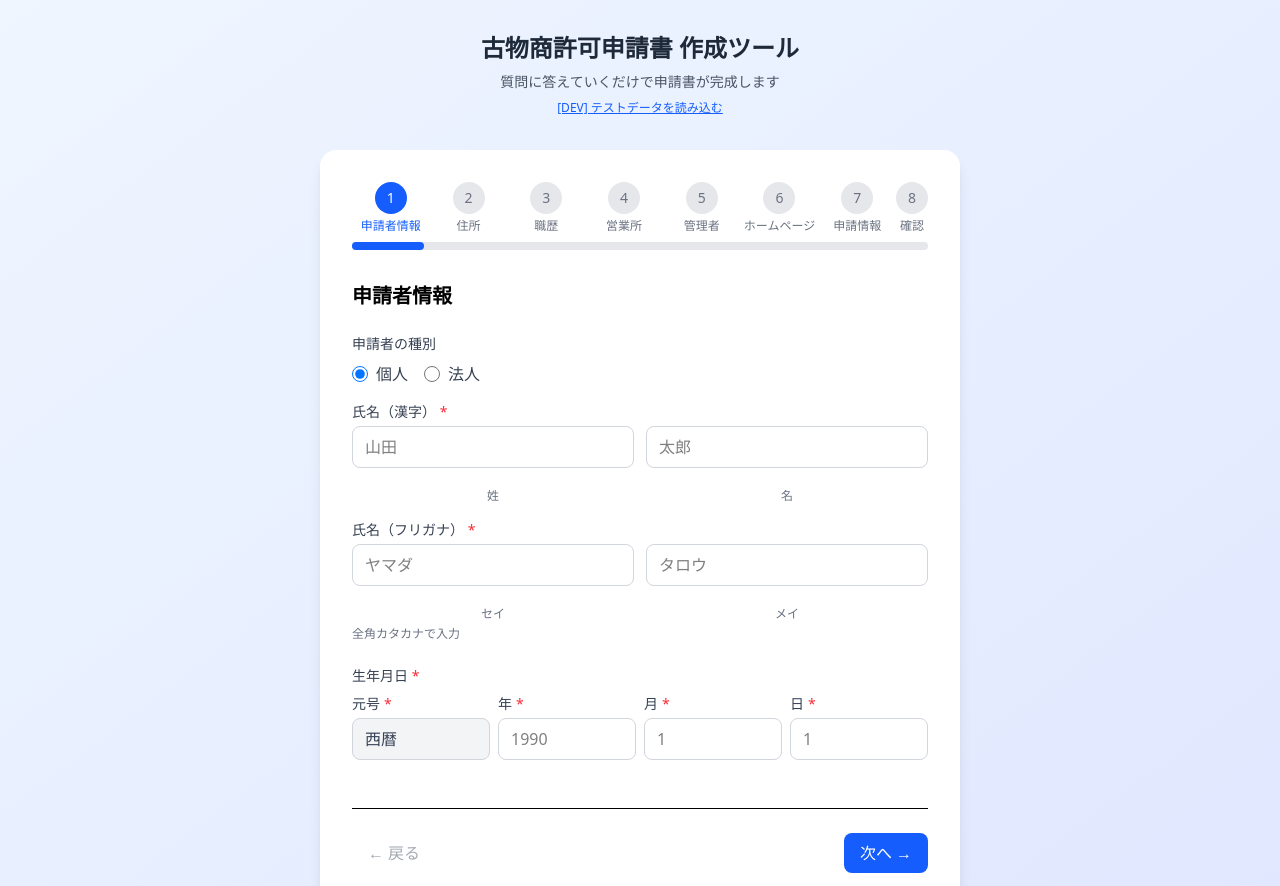
Test: App › test_next_button_advances_step: "次へ" ボタンで次のステップに進む
Check: the heading "申請者情報" is shown, box [352, 282, 452, 309]
// 「次へ」ボタンをクリック
Click the button "次へ →": x=886, y=853 [844, 833, 928, 873]
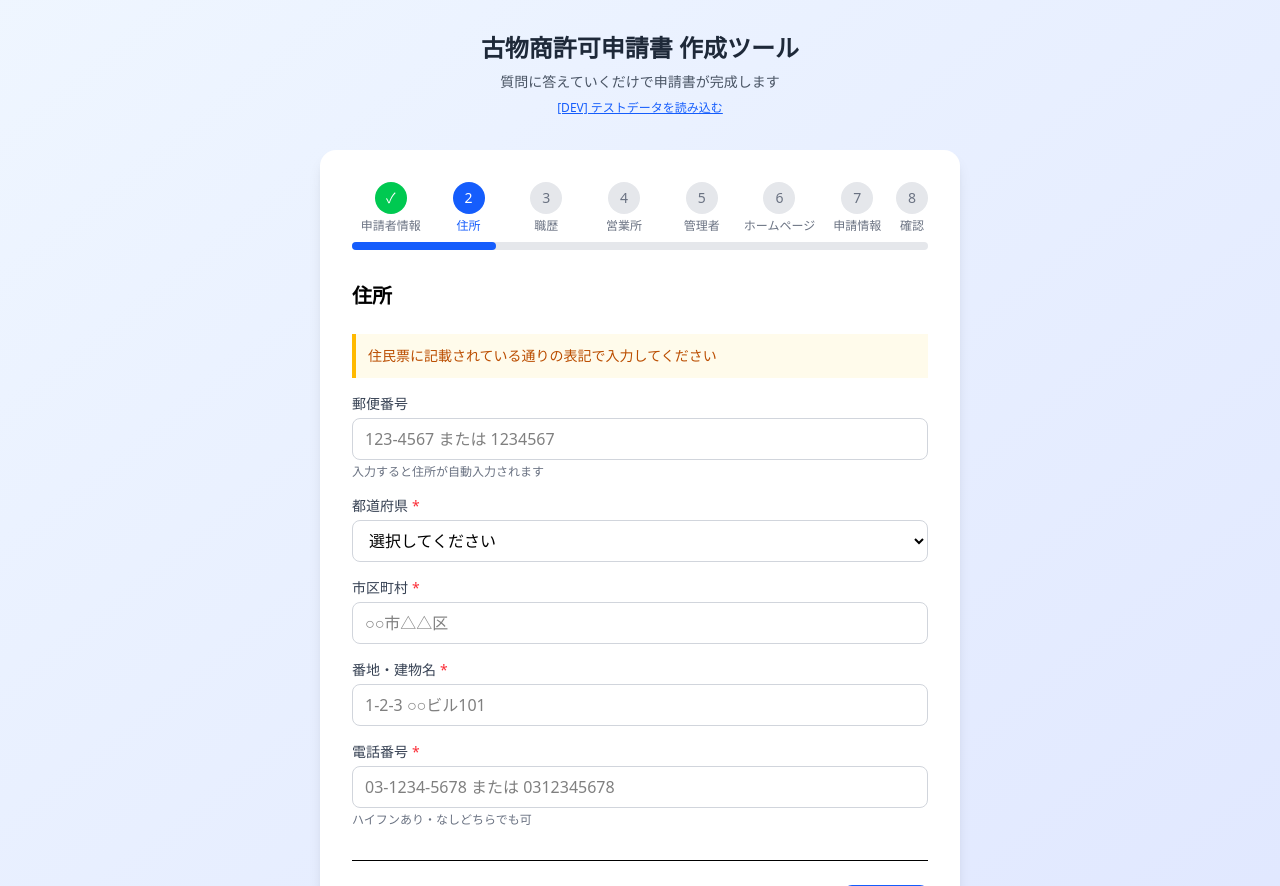
Check: the heading "住所" is shown, box [352, 282, 392, 309]
